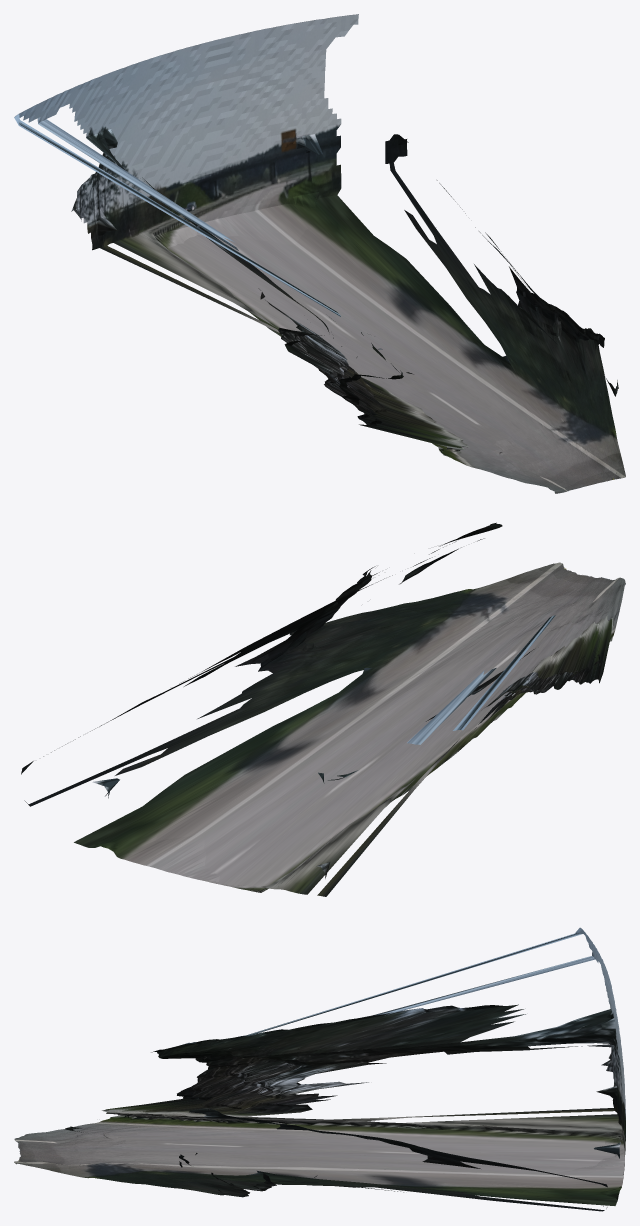
The picture shows the model from 3 angles, top to bottom: view 1: azimuth 30°, elevation 25°; view 2: azimuth 150°, elevation 25°; view 3: azimuth 270°, elevation 25°; orthographic projection. The views are drawn at different scales.
Visible parts, largest first — view 1: defaultobject; view 2: defaultobject; view 3: defaultobject.
Part boxes in pixels (x1,y1,x2,y2): defaultobject: (14, 14, 625, 493); defaultobject: (21, 522, 625, 896); defaultobject: (14, 927, 625, 1211).
Size of the model in its own units: 27.77 by 12.43 by 44.83.
1 material, 1 textured.
